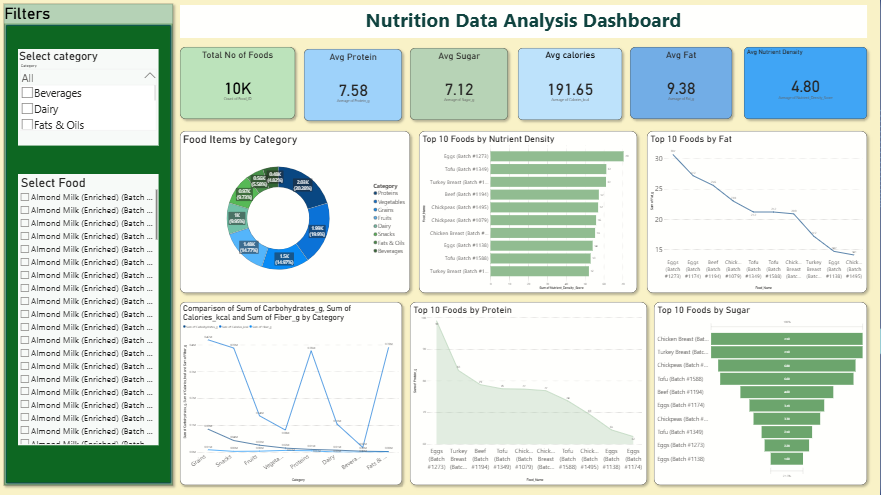

The page's visual inventory and layout, read from the dashboard file:
{"tool":"powerbi","page":{"name":"Page 4","canvas":[4000,2250],"ordinal":0},"visuals":[{"type":"card","title":"Total No of Foods","fields":{"Values":["Count(nutrition_dataset_10k.Food_ID)"]},"box":[910,220,520,325],"z":0},{"type":"card","title":"Avg calories","fields":{"Values":["Avg(nutrition_dataset_10k.Calories_kcal)"]},"box":[2353.3,220,473.3,326.7],"z":1000},{"type":"card","title":"Avg Protein","fields":{"Values":["Avg(nutrition_dataset_10k.Protein_g)"]},"box":[1500,220,365,325],"z":2000},{"type":"card","title":"Avg Sugar","fields":{"Values":["Avg(nutrition_dataset_10k.Sugar_g)"]},"box":[1905,220,385,325],"z":3000},{"type":"donutChart","title":"Food Items by Category","fields":{"Category":["nutrition_dataset_10k.Category"],"Y":["CountNonNull(nutrition_dataset_10k.Food_ID)"]},"box":[855,595,1010,685],"z":4000},{"type":"textbox","box":[911.1,22.2,2961.1,150],"z":5000},{"type":"card","title":"Avg Fat","fields":{"Values":["Avg(nutrition_dataset_10k.Fat_g)"]},"box":[2893.3,213.3,433.3,326.7],"z":6000},{"type":"card","title":"Avg Nutrient Density","fields":{"Values":["Avg(nutrition_dataset_10k.Nutrient_Density_Score)"]},"box":[3380,213.3,493.3,326.7],"z":7000},{"type":"barChart","title":"Top 10 Foods by Nutrient Density","fields":{"Category":["nutrition_dataset_10k.Food_Name"],"Y":["Sum(nutrition_dataset_10k.Nutrient_Density_Score)"]},"box":[1906.7,593.3,986.7,686.7],"z":8000},{"type":"lineChart","title":"Comparison of Sum of Carbohydrates_g, Sum of Calories_kcal and Sum of Fiber_g by Category","fields":{"Category":["nutrition_dataset_10k.Category"],"Y":["Sum(nutrition_dataset_10k.Carbohydrates_g)","Sum(nutrition_dataset_10k.Calories_kcal)","Sum(nutrition_dataset_10k.Fiber_g)"]},"box":[853.3,1333.3,973.3,740],"z":9000},{"type":"areaChart","title":"Top 10 Foods by Protein","fields":{"Category":["nutrition_dataset_10k.Food_Name"],"Y":["Sum(nutrition_dataset_10k.Protein_g)"]},"box":[1865,1330,1075,740],"z":10000},{"type":"shape","title":"Filters","box":[20,20,766.7,2186.7],"z":11000},{"type":"slicer","title":"Select category","fields":{"Values":["nutrition_dataset_10k.Category"]},"box":[83.3,222.2,638.9,438.9],"z":12000},{"type":"slicer","fields":{"Values":["nutrition_dataset_10k.Food_Name"]},"box":[83.3,788.9,638.9,1233.3],"z":13000},{"type":"lineChart","title":"Top 10 Foods by Fat","fields":{"Category":["nutrition_dataset_10k.Food_Name"],"Y":["Sum(nutrition_dataset_10k.Fat_g)"]},"box":[2940,593.3,1000,686.7],"z":14000},{"type":"funnel","title":"Top 10 Foods by Sugar","fields":{"Category":["nutrition_dataset_10k.Food_Name"],"Y":["Sum(nutrition_dataset_10k.Sugar_g)"]},"box":[2973.3,1333.3,966.7,740],"z":15000}]}

Visuals, with their boxes in screenshot pixels (x1, y1, x2, y2), scaled from the page's 4000x2250 canvas onto the 881x495 screenshot:
"Total No of Foods" card: bbox=(200, 48, 315, 120)
"Avg calories" card: bbox=(518, 48, 623, 120)
"Avg Protein" card: bbox=(330, 48, 411, 120)
"Avg Sugar" card: bbox=(420, 48, 504, 120)
"Food Items by Category" donutChart: bbox=(188, 131, 411, 282)
textbox: bbox=(201, 5, 853, 38)
"Avg Fat" card: bbox=(637, 47, 733, 119)
"Avg Nutrient Density" card: bbox=(744, 47, 853, 119)
"Top 10 Foods by Nutrient Density" barChart: bbox=(420, 131, 637, 282)
"Comparison of Sum of Carbohydrates_g, Sum of Calories_kcal and Sum of Fiber_g by Category" lineChart: bbox=(188, 293, 402, 456)
"Top 10 Foods by Protein" areaChart: bbox=(411, 293, 648, 455)
"Filters" shape: bbox=(4, 4, 173, 485)
"Select category" slicer: bbox=(18, 49, 159, 145)
slicer - nutrition_dataset_10k.Food_Name: bbox=(18, 174, 159, 445)
"Top 10 Foods by Fat" lineChart: bbox=(648, 131, 868, 282)
"Top 10 Foods by Sugar" funnel: bbox=(655, 293, 868, 456)
